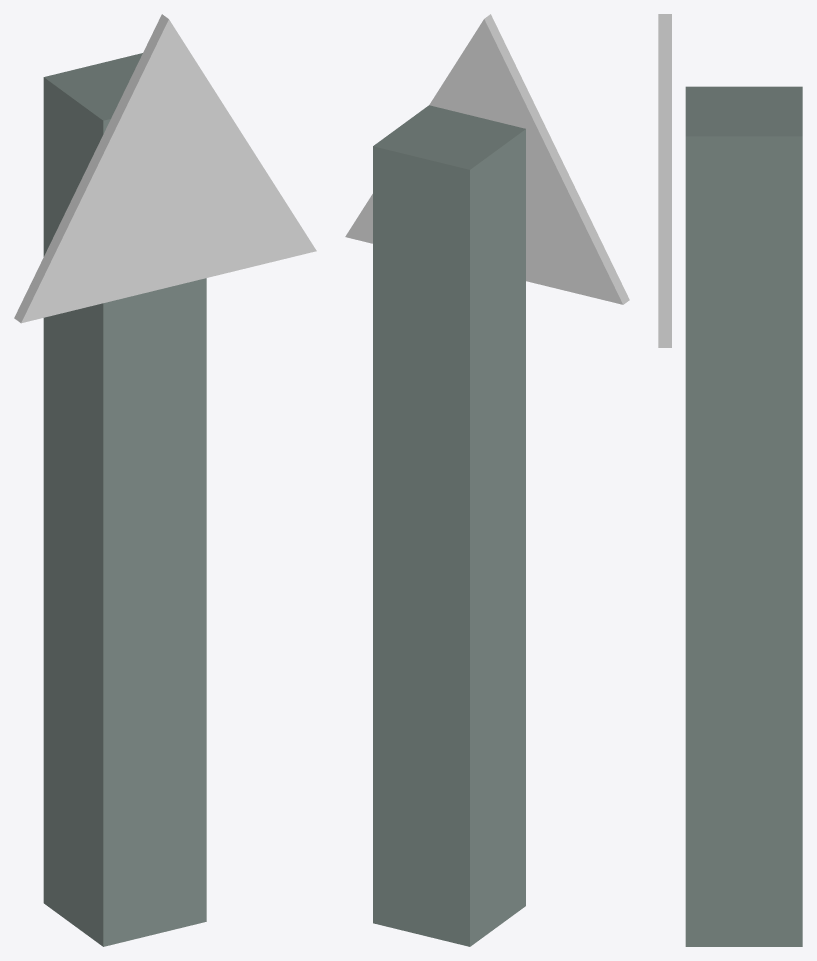
File: SM_Senal_v2_Triangular_LOD1.fbx
The picture shows the model from 3 angles, left to right: view 1: azimuth 30°, elevation 25°; view 2: azimuth 150°, elevation 25°; view 3: azimuth 270°, elevation 25°; orthographic projection. The views are drawn at different scales.
Visible parts, largest first — view 1: SM_urbano_extra_v17_LOD1; view 2: SM_urbano_extra_v17_LOD1; view 3: SM_urbano_extra_v17_LOD1.
Part boxes in pixels (x1=…): SM_urbano_extra_v17_LOD1: x1=14, y1=14, x2=316, y2=946; SM_urbano_extra_v17_LOD1: x1=345, y1=14, x2=629, y2=946; SM_urbano_extra_v17_LOD1: x1=658, y1=14, x2=802, y2=946.
Size of the model in its own units: 0.9743 by 2.91 by 0.42.
